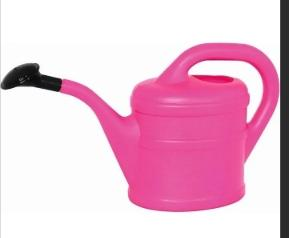ARROSOIR: (0, 40, 284, 222)
